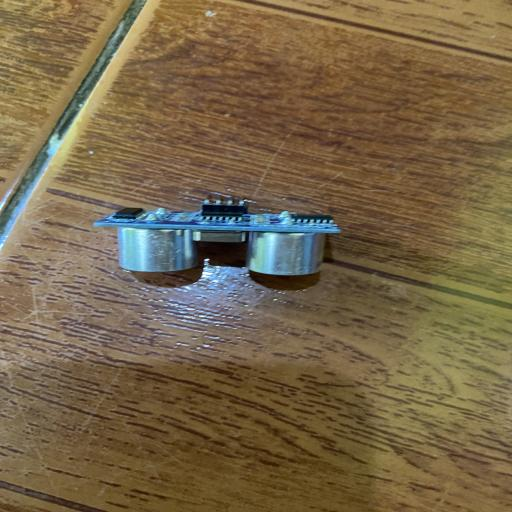Ultrasonic Sensor: (92, 194, 342, 276)
